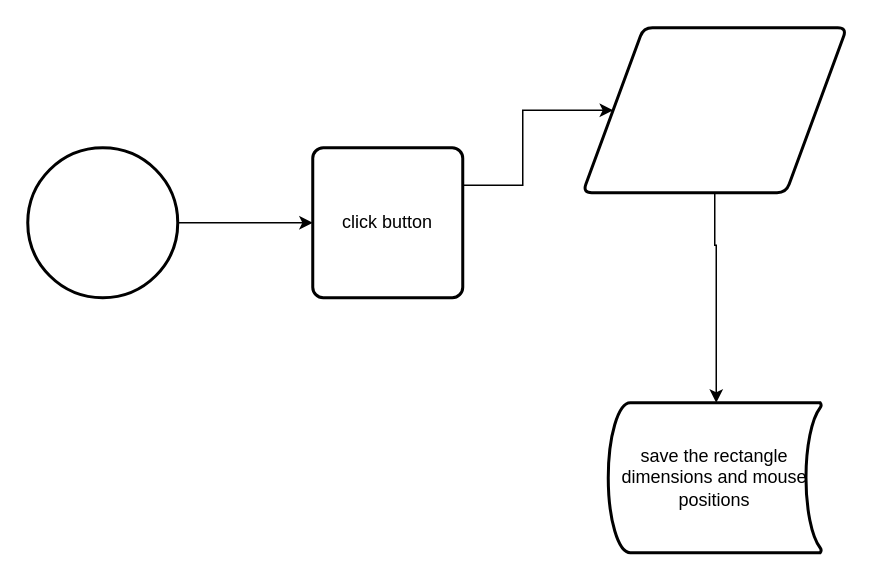
Some shapes in this 873 by 579 pixel diagram are drawn without their labels. Each missing label, with the centre of its shape:
"allows to draw a rectangular shape using mouse motions" goes at (714,110).
"drawing" goes at (102,222).
